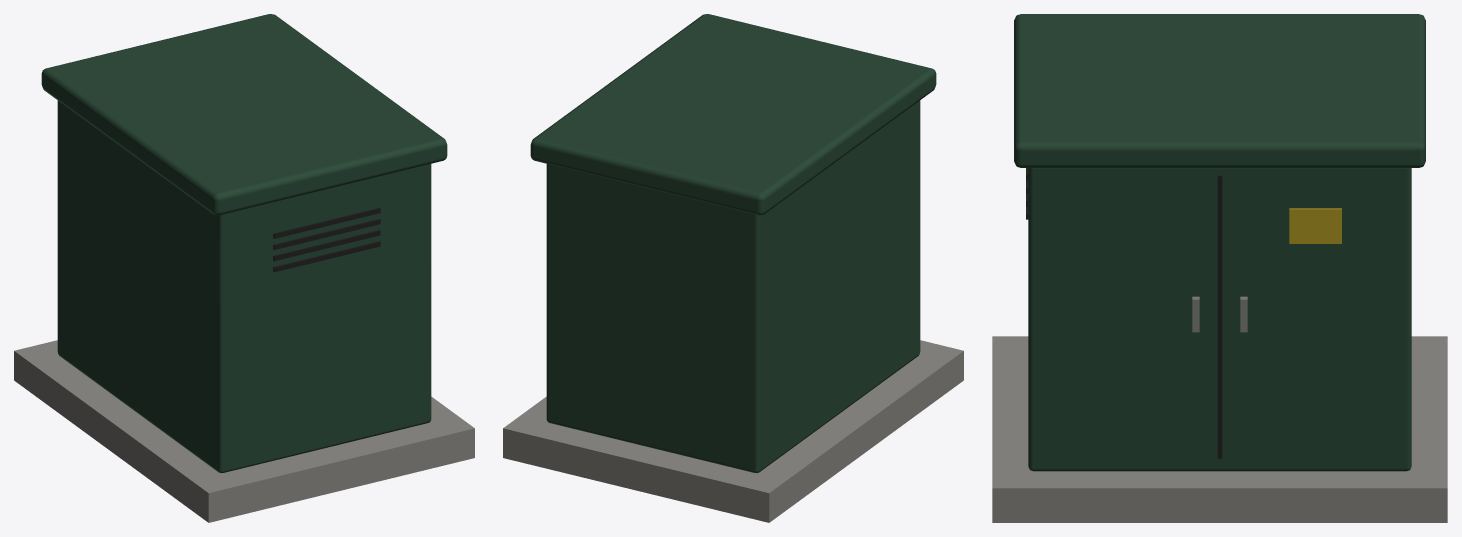
File: SM_Prop_power_kiosk_0.glb
3 renders of one model, left to right at view 1: azimuth 30°, elevation 25°; view 2: azimuth 150°, elevation 25°; view 3: azimuth 270°, elevation 25°, orthographic. The views are drawn at different scales.
Parts seen in each view (by area): view 1: SM_Prop_power_kiosk_0; view 2: SM_Prop_power_kiosk_0; view 3: SM_Prop_power_kiosk_0.
Part boxes in pixels (x1,y1,x2,y2): SM_Prop_power_kiosk_0: (14, 14, 474, 522); SM_Prop_power_kiosk_0: (503, 14, 963, 522); SM_Prop_power_kiosk_0: (992, 14, 1447, 522).
Bounding box in the file's own units: 1.5 × 1.7 × 1.9.
